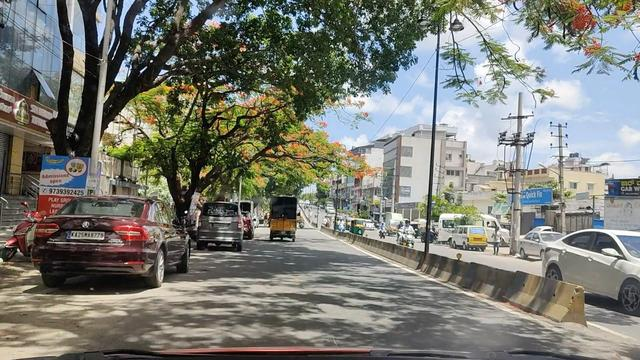HMV: (198, 203, 240, 244), (273, 192, 300, 241)
LMV: (21, 198, 173, 275)
